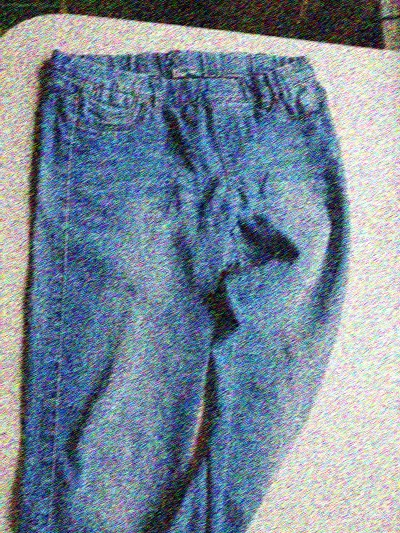Pants: (17, 39, 365, 531)
